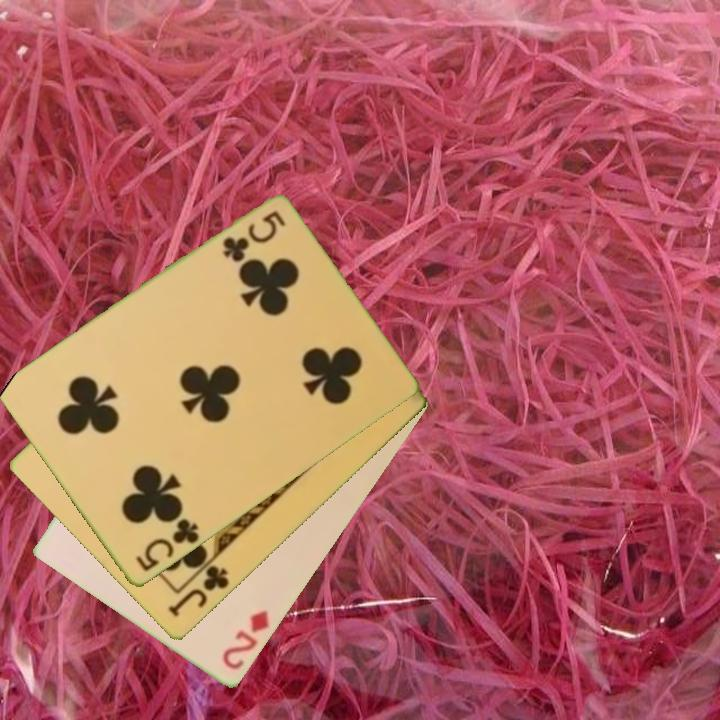2d: (219, 607, 273, 674)
5c: (131, 515, 202, 575), (219, 208, 289, 265)
Jc: (164, 562, 232, 621)
